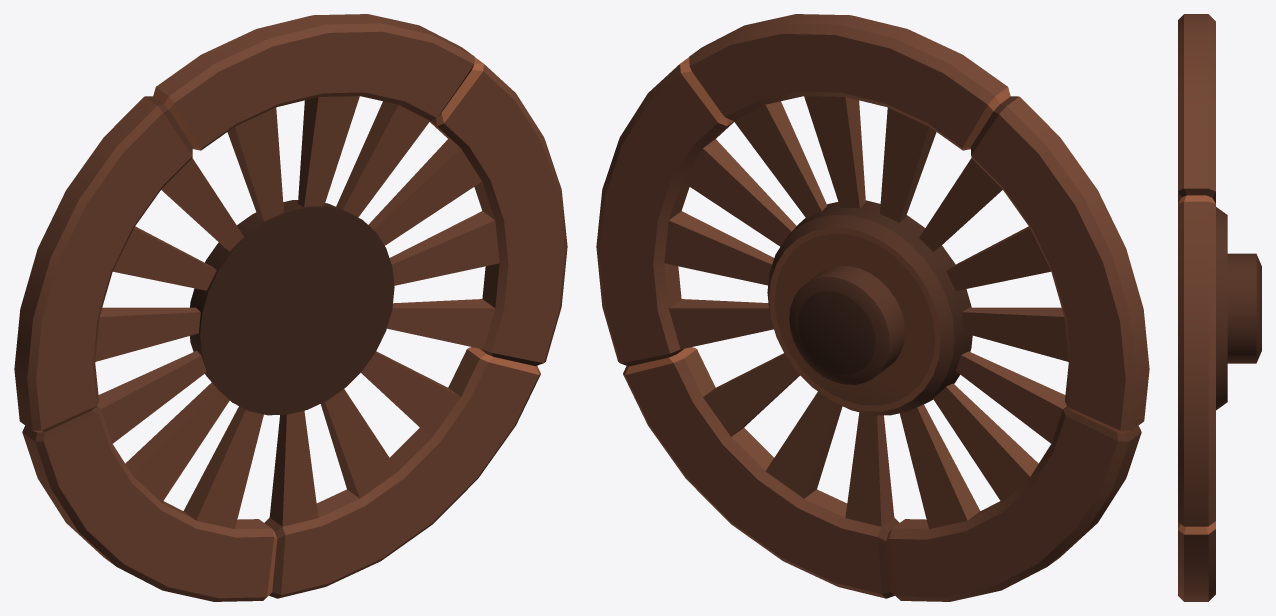
Rendered from WagonWheel.fbx.
3 renders of one model, left to right at view 1: azimuth 30°, elevation 25°; view 2: azimuth 150°, elevation 25°; view 3: azimuth 270°, elevation 25°, orthographic. The views are drawn at different scales.
Parts seen in each view (by area): view 1: WheelWood1; view 2: WheelWood1; view 3: WheelWood1.
Boxes of the visible parts, bbox=[...] form: WheelWood1: bbox=[14, 14, 567, 601]; WheelWood1: bbox=[596, 14, 1149, 601]; WheelWood1: bbox=[1178, 14, 1261, 601].
Bounding box in the file's own units: 5.56 × 5.53 × 0.7897.
